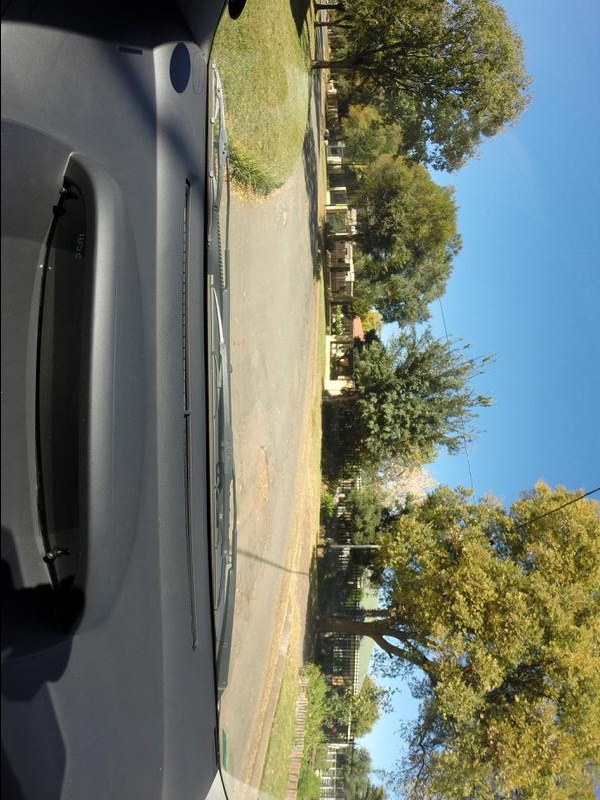pothole: (251, 440, 283, 517)
